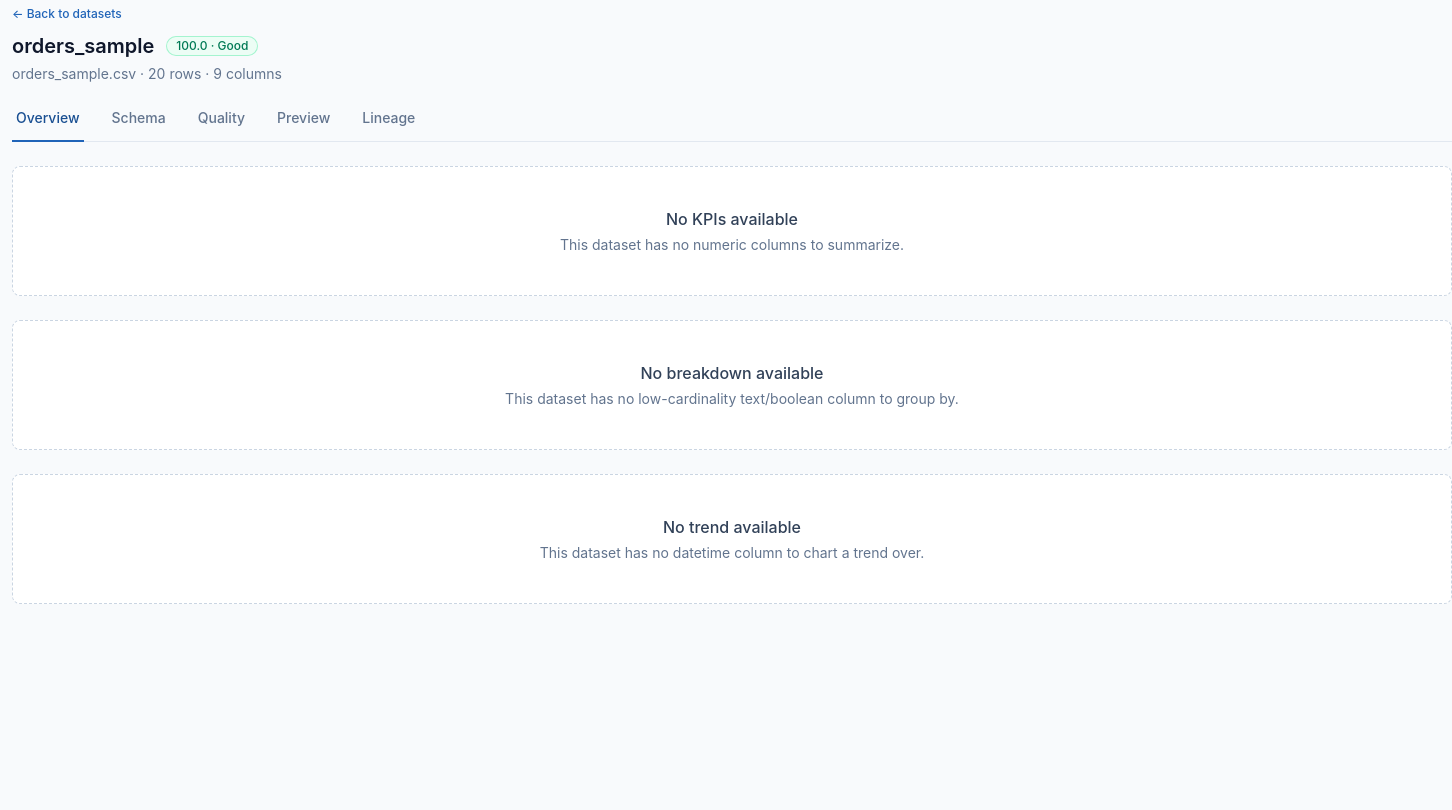
Test: DatasetDetailPage › shows real preview rows on the Preview tab
Expected: the heading "orders_sample" is shown, [12,32,154,60]
What coordinates should you click on to do the following:
click the button "Preview"
I would click on:
 (304, 125)
Its box is [273,108,334,142].
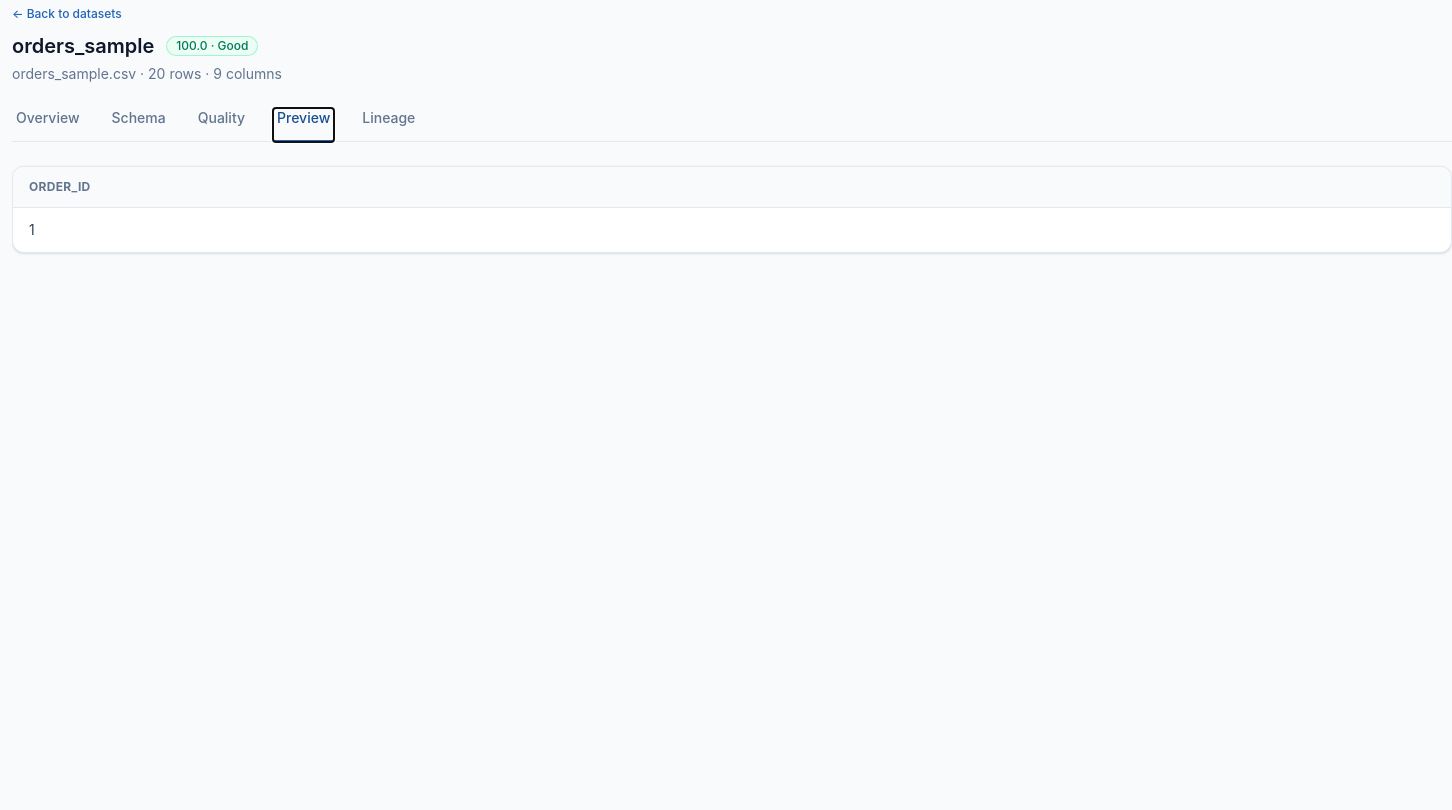
Expected: the column heading "order_id" is shown, [13,167,1451,208]
Expected: the text "1" is shown, [13,208,1451,252]
